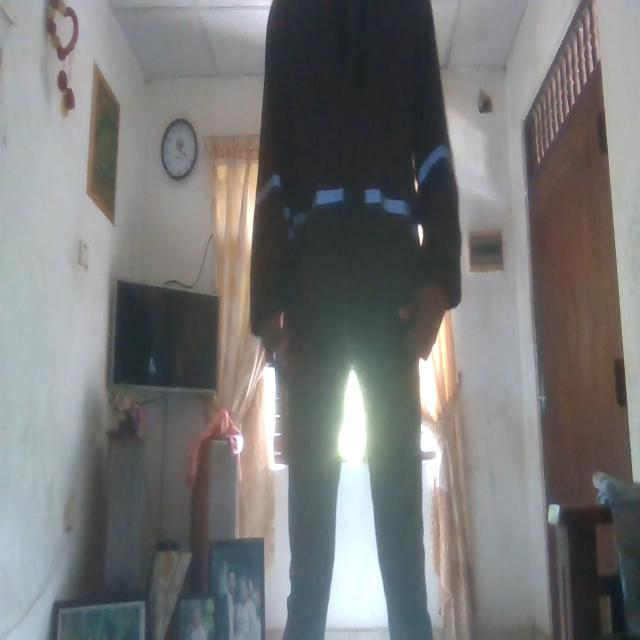Jacket_Wearer: (250, 0, 459, 382)
Person: (246, 0, 459, 640)
